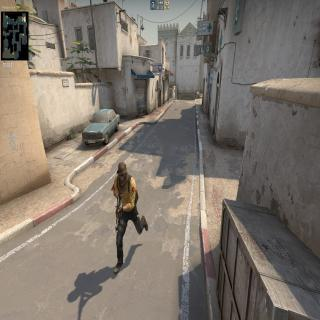T-Head: (116, 160, 128, 186)
